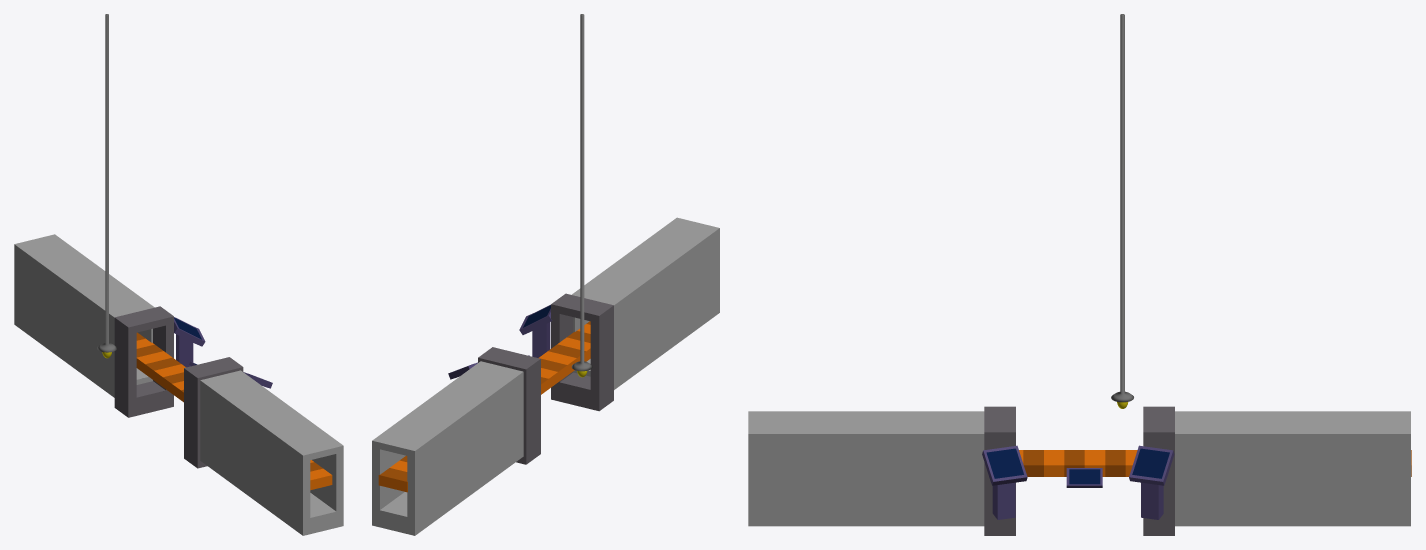
File: shop_meny_stomp_computers.glb
3 views of the same model, side by side, from view 1: azimuth 30°, elevation 25°; view 2: azimuth 150°, elevation 25°; view 3: azimuth 270°, elevation 25° (orthographic). The views are drawn at different scales.
Visible parts, largest first — view 1: Cube.006, Cube.005, Cube, Cylinder.004, Cube.004; view 2: Cube.005, Cube.006, Cube, Cylinder.004, Cube.004; view 3: Cube.005, Cube.006, Cube.004, Cube, Cylinder.004.
Boxes of the visible parts, x1=… form: Cube.006: x1=184, y1=357, x2=343, y2=535; Cube.005: x1=14, y1=234, x2=173, y2=417; Cube: x1=136, y1=332, x2=332, y2=490; Cylinder.004: x1=97, y1=14, x2=117, y2=358; Cube.004: x1=174, y1=317, x2=272, y2=388; Cube.005: x1=372, y1=347, x2=540, y2=535; Cube.006: x1=551, y1=217, x2=719, y2=411; Cube: x1=378, y1=321, x2=590, y2=492; Cylinder.004: x1=571, y1=14, x2=592, y2=377; Cube.004: x1=448, y1=304, x2=551, y2=379; Cube.005: x1=1143, y1=406, x2=1410, y2=535; Cube.006: x1=748, y1=406, x2=1015, y2=535; Cube.004: x1=982, y1=445, x2=1174, y2=519; Cube: x1=1019, y1=450, x2=1411, y2=476; Cylinder.004: x1=1111, y1=14, x2=1133, y2=408.
Size of the model in its own units: 9.88 by 33.38 by 41.89.
